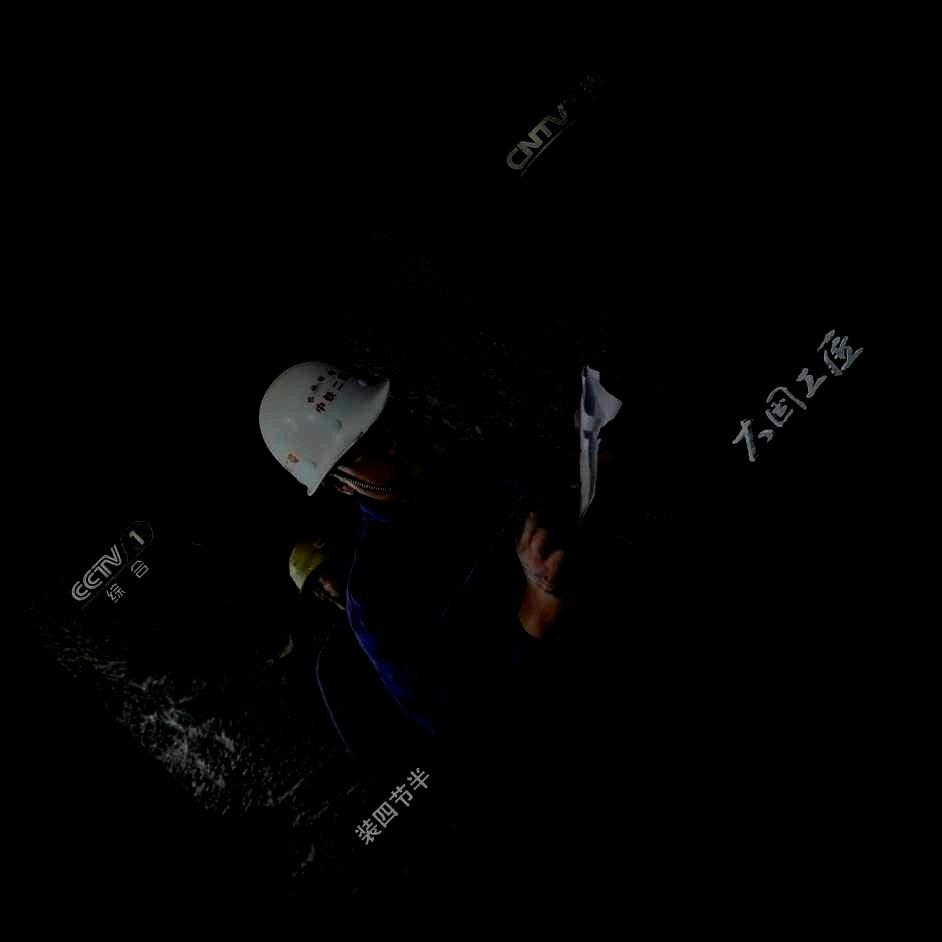helmet: (258, 360, 420, 500), (289, 537, 348, 608)
